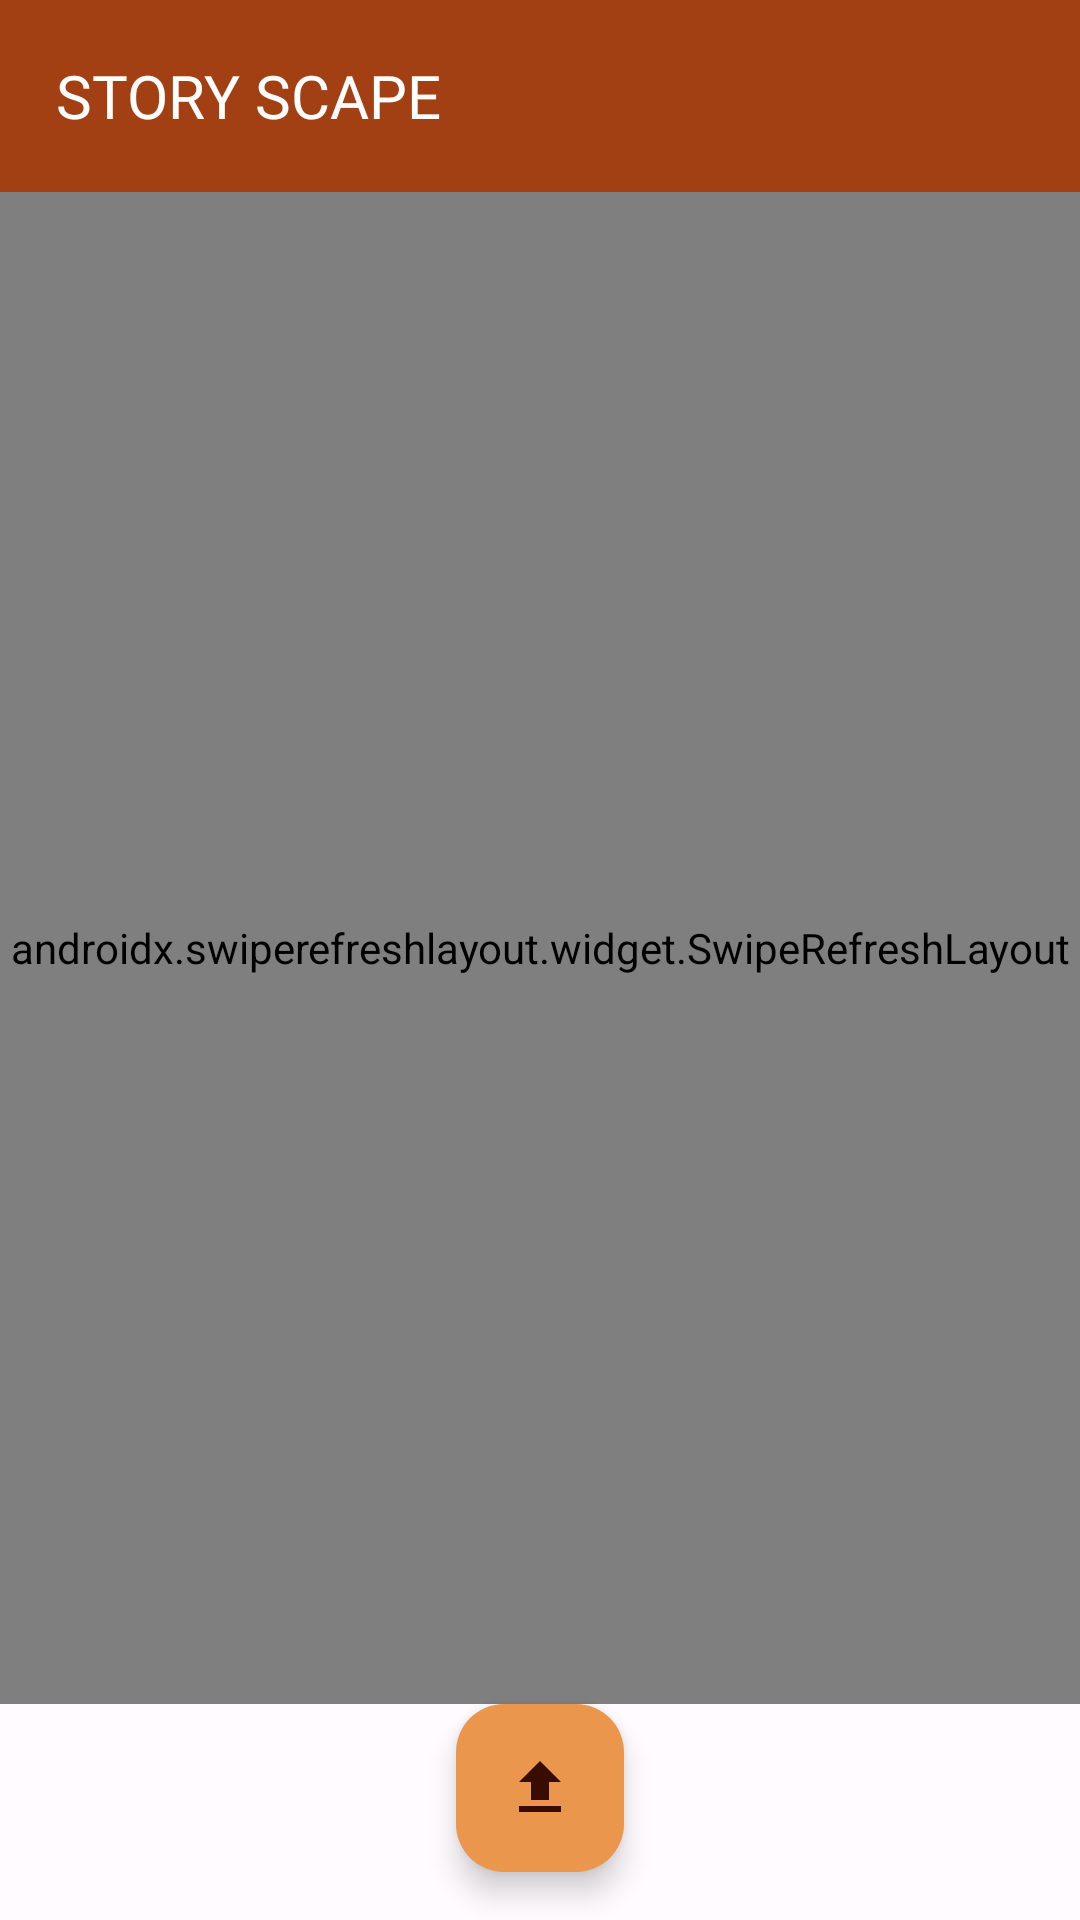

Named icons in this screenshot (1080 × 1920) and their centers, point (x, y):
unggah: point (540, 1788)
